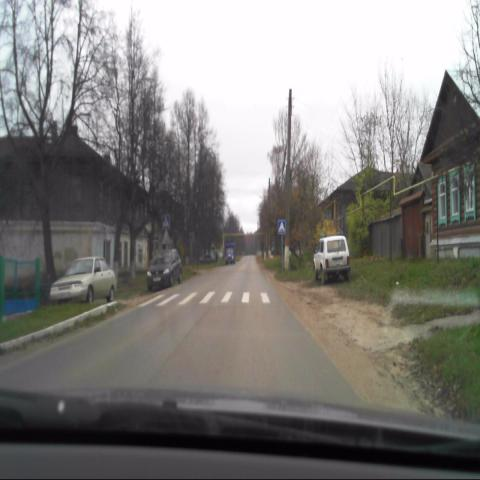5_19_1: (162, 213, 170, 229)
5_20: (278, 219, 286, 234)
